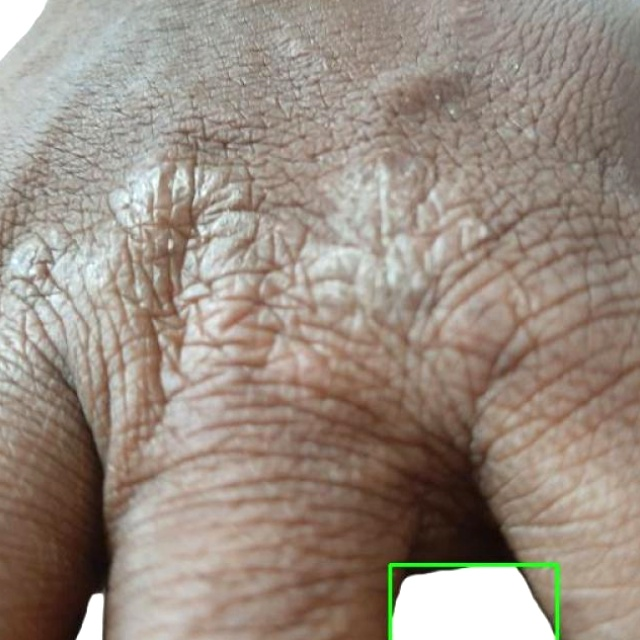Contact Dermatitis: (390, 564, 557, 639)
